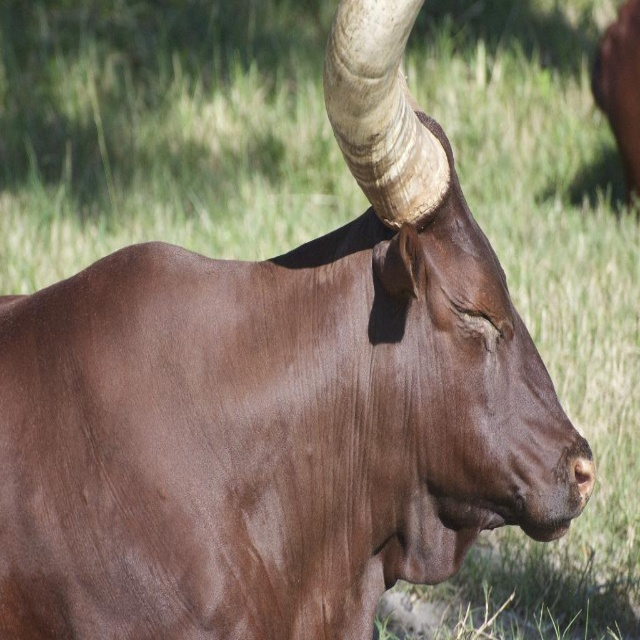Cattle: (0, 0, 596, 640)
